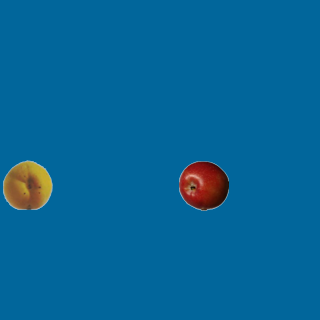Apple Braeburn: (178, 160, 228, 210)
Peach 2: (2, 159, 52, 209)
